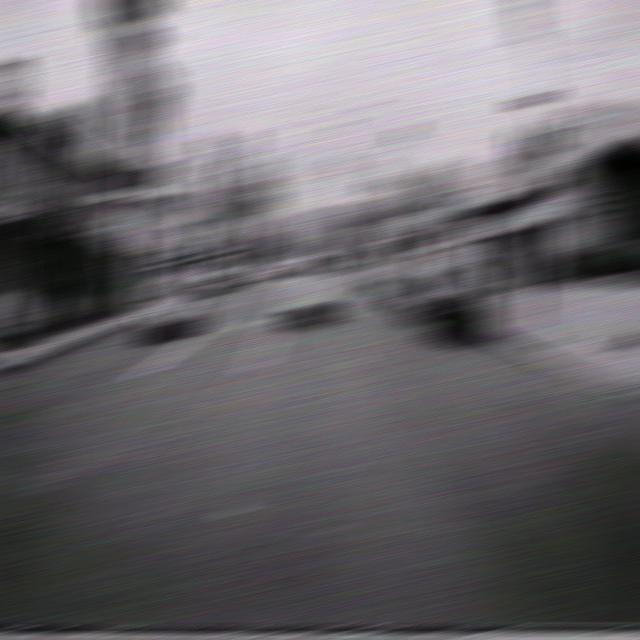pedestrianCrossing: (436, 187, 466, 216)
